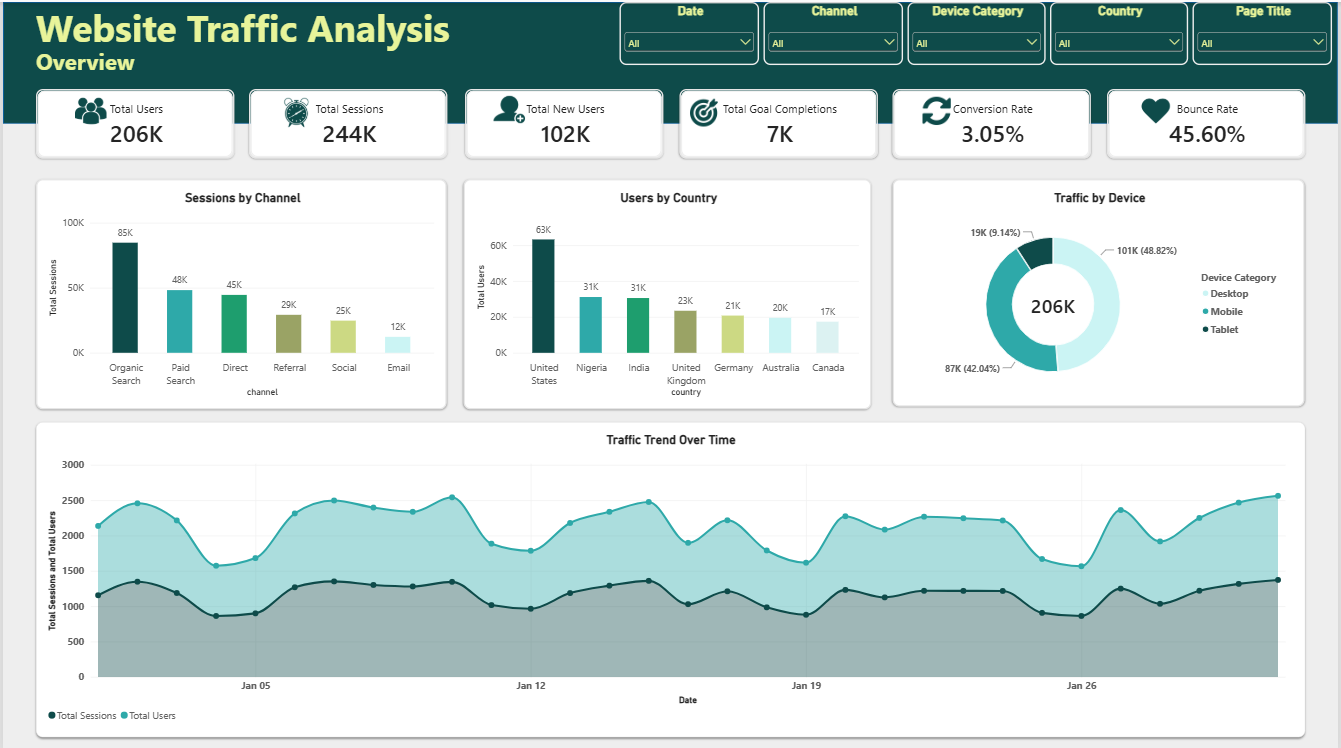

What the dashboard file says about the page in this screenshot:
{"tool":"powerbi","page":{"name":"Traffic Analysis","canvas":[1920,1080],"ordinal":0},"visuals":[{"type":"shape","box":[0,0,1919.3,174.9],"z":0},{"type":"cardVisual","fields":{"Data":["DAX Measures.Total Users"]},"box":[47.5,125.1,285,100],"z":1000},{"type":"cardVisual","fields":{"Data":["DAX Measures.Total Goal Completions"]},"box":[972,124.9,285,100],"z":2000},{"type":"cardVisual","fields":{"Data":["DAX Measures.Conversion Rate"]},"box":[1278.7,124.9,285,100],"z":3000},{"type":"cardVisual","fields":{"Data":["DAX Measures.Bounce Rate"]},"box":[1587.7,125.1,285,100],"z":4000},{"type":"cardVisual","fields":{"Data":["DAX Measures.Total Sessions"]},"box":[354,125.1,285,100],"z":5000},{"type":"cardVisual","fields":{"Data":["DAX Measures.Total New Users"]},"box":[664,125.1,285,100],"z":6000},{"type":"textbox","box":[47.7,0,876.7,149.9],"z":7000},{"type":"slicer","title":"Date","fields":{"Values":["Date_Table.Date"]},"box":[886.6,0,200.6,90.6],"z":8000},{"type":"slicer","title":"Channel","fields":{"Values":["Daily_Traffic.channel"]},"box":[1093.7,0,200.6,90.6],"z":9000},{"type":"slicer","title":"Device Category","fields":{"Values":["Daily_Traffic.device_category"]},"box":[1300.8,0,198.5,90.6],"z":10000},{"type":"slicer","title":"Country","fields":{"Values":["Daily_Traffic.country"]},"box":[1505.7,0,198.5,90.6],"z":11000},{"type":"slicer","title":"Page Title","fields":{"Values":["Page_Performance.page_title"]},"box":[1710.6,0,200.6,90.6],"z":12000},{"type":"clusteredColumnChart","title":"Sessions by Channel","fields":{"Category":["Daily_Traffic.channel"],"Y":["DAX Measures.Total Sessions"]},"box":[47.7,254.4,590.5,331.6],"z":13000},{"type":"columnChart","title":"Users by Country","fields":{"Category":["Daily_Traffic.country"],"Y":["DAX Measures.Total Users"]},"box":[663.3,255.1,586.8,331.7],"z":14000},{"type":"donutChart","title":"Traffic by Device","fields":{"Category":["Daily_Traffic.device_category"],"Y":["DAX Measures.Total Users"]},"box":[1278.7,254.4,592.8,327.1],"z":15000},{"type":"image","box":[104.5,129.5,45.4,54.5],"z":16000},{"type":"image","box":[397.5,129.5,50,59.1],"z":17000},{"type":"image","box":[706.4,127.2,45.4,54.5],"z":18000},{"type":"image","box":[988,134,40,50],"z":19000},{"type":"image","box":[1321.9,131.7,40.9,50],"z":20000},{"type":"image","box":[1635.3,129.5,45.4,54.5],"z":21000},{"type":"stackedAreaChart","title":"Traffic Trend Over Time","fields":{"Category":["Date_Table.Date"],"Y":["DAX Measures.Total Sessions","DAX Measures.Total Users"]},"box":[48.2,603.8,1825.5,453.5],"z":21001}]}

Visuals, with their boxes in screenshot pixels (x1, y1, x2, y2), scaled from the page's 1920x1080 canvas onto the 1341x748 screenshot:
shape: (left=0, top=0, right=1340, bottom=121)
cardVisual - DAX Measures.Total Users: (left=33, top=87, right=232, bottom=156)
cardVisual - DAX Measures.Total Goal Completions: (left=679, top=87, right=878, bottom=156)
cardVisual - DAX Measures.Conversion Rate: (left=893, top=87, right=1092, bottom=156)
cardVisual - DAX Measures.Bounce Rate: (left=1109, top=87, right=1308, bottom=156)
cardVisual - DAX Measures.Total Sessions: (left=247, top=87, right=446, bottom=156)
cardVisual - DAX Measures.Total New Users: (left=464, top=87, right=663, bottom=156)
textbox: (left=33, top=0, right=646, bottom=104)
"Date" slicer: (left=619, top=0, right=759, bottom=63)
"Channel" slicer: (left=764, top=0, right=904, bottom=63)
"Device Category" slicer: (left=909, top=0, right=1047, bottom=63)
"Country" slicer: (left=1052, top=0, right=1190, bottom=63)
"Page Title" slicer: (left=1195, top=0, right=1335, bottom=63)
"Sessions by Channel" clusteredColumnChart: (left=33, top=176, right=446, bottom=406)
"Users by Country" columnChart: (left=463, top=177, right=873, bottom=406)
"Traffic by Device" donutChart: (left=893, top=176, right=1307, bottom=403)
image: (left=73, top=90, right=105, bottom=127)
image: (left=278, top=90, right=313, bottom=131)
image: (left=493, top=88, right=525, bottom=126)
image: (left=690, top=93, right=718, bottom=127)
image: (left=923, top=91, right=952, bottom=126)
image: (left=1142, top=90, right=1174, bottom=127)
"Traffic Trend Over Time" stackedAreaChart: (left=34, top=418, right=1309, bottom=732)
